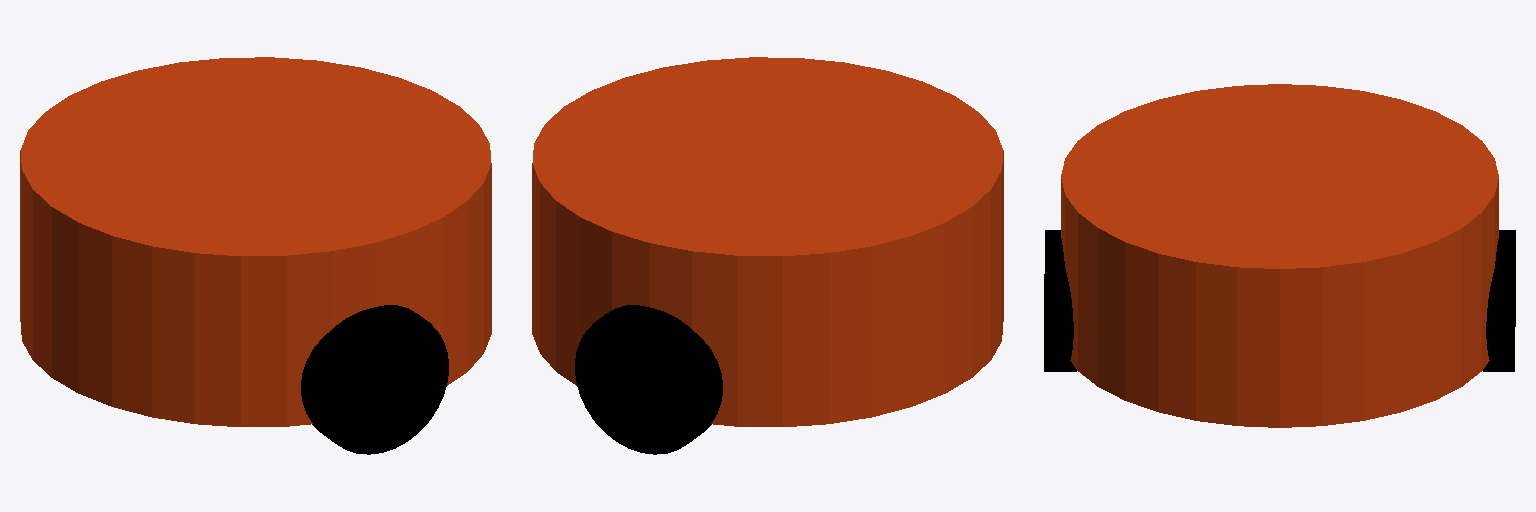
The robot description file, URDF, robot "LDS_robot":
<robot name="LDS_robot">
    <link name="base_link">
        <visual>
            <geometry>
                <cylinder radius="0.1" length="0.08" />
            </geometry>
            <origin xyz="0 0 0" rpy="0 0 0" />
            <material name="yellow">
                <color rgba="0.8 0.3 0.1 0.5" />
            </material>
        </visual>
    </link>

    <link name="left_wheel">
        <visual>
            <geometry>
                <cylinder radius="0.0325" length="0.015" />
            </geometry>
            <origin xyz="0 0 0" rpy="1.5705 0 0" />
            <material name="black">
                <color rgba="0.0 0.0 0.0 1.0" />
            </material>
        </visual>
    </link>

    <joint name="left_wheel2base_link" type="continuous">
        <parent link="base_link" />
        <child link="left_wheel" />
        <origin xyz="0 0.1 -0.0225" />
        <axis xyz="0 1 0" />
    </joint>

    <link name="right_wheel">
        <visual>
            <geometry>
                <cylinder radius="0.0325" length="0.015" />
            </geometry>
            <origin xyz="0 0 0" rpy="1.5705 0 0" />
            <material name="black">
                <color rgba="0.0 0.0 0.0 1.0" />
            </material>
        </visual>
    </link>

    <joint name="right_wheel2base_link" type="continuous">
        <parent link="base_link" />
        <child link="right_wheel" />
        <origin xyz="0 -0.1 -0.0225" />
        <axis xyz="0 1 0" />
    </joint>

</robot>

--- Facts derived from the render (not from the file) ---
The picture shows the robot from 3 angles, left to right: view 1: azimuth 30°, elevation 25°; view 2: azimuth 150°, elevation 25°; view 3: azimuth 270°, elevation 25°; orthographic projection.
Robot: LDS_robot — 3 links, 2 joints (2 continuous); root link base_link; default pose: all joints at 0.
Links seen in each view (by area): view 1: base_link, right_wheel; view 2: base_link, left_wheel; view 3: base_link, right_wheel, left_wheel.
Link boxes in pixels (x1,y1,x2,y2): base_link: (20,57,491,426); right_wheel: (301,305,448,454); base_link: (532,57,1003,426); left_wheel: (575,305,722,454); base_link: (1061,84,1498,427); right_wheel: (1044,230,1076,371); left_wheel: (1483,230,1515,371).
Size in the robot's own frame: 0.2 by 0.215 by 0.095 metres.
Geometry: primitives only (box / cylinder / sphere), no mesh files.
